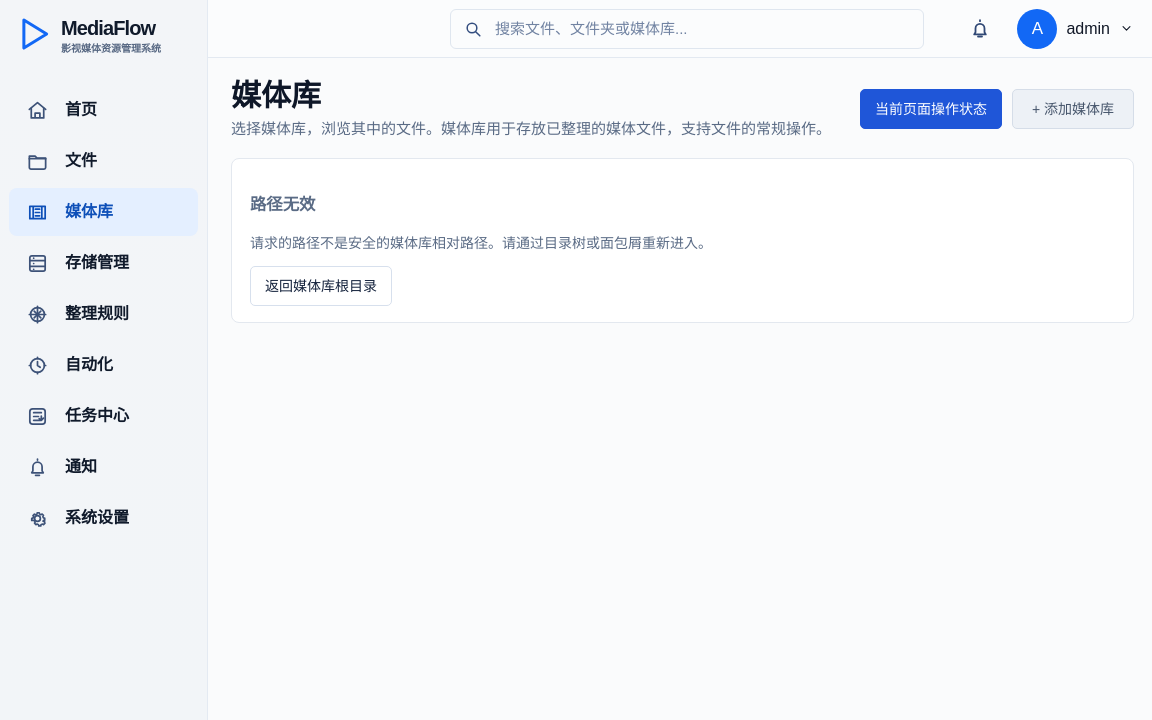
Test: MediaLibrary Files journey › leaves a rejected deep-link path in the address with its root recovery
Check: the heading "路径无效" is shown, box left=250, top=195, right=315, bottom=213
Click the button "返回媒体库根目录" at {"x": 321, "y": 286}, box left=250, top=266, right=392, bottom=306
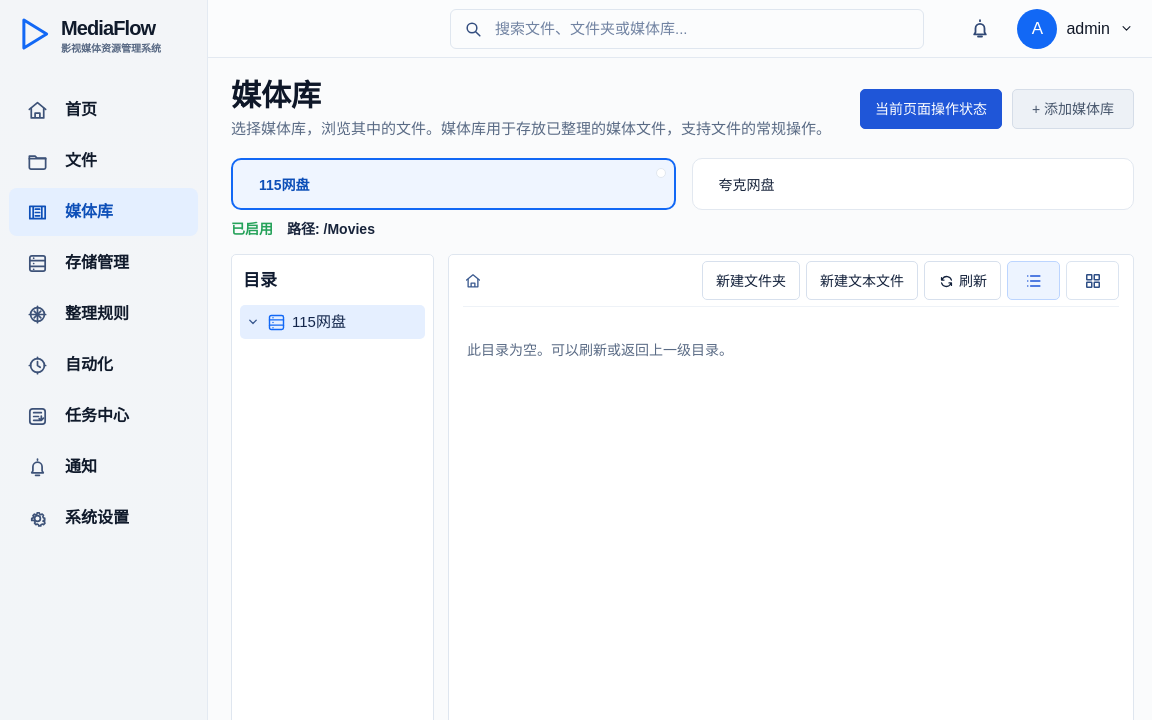
Check: the heading "路径无效" is gone
